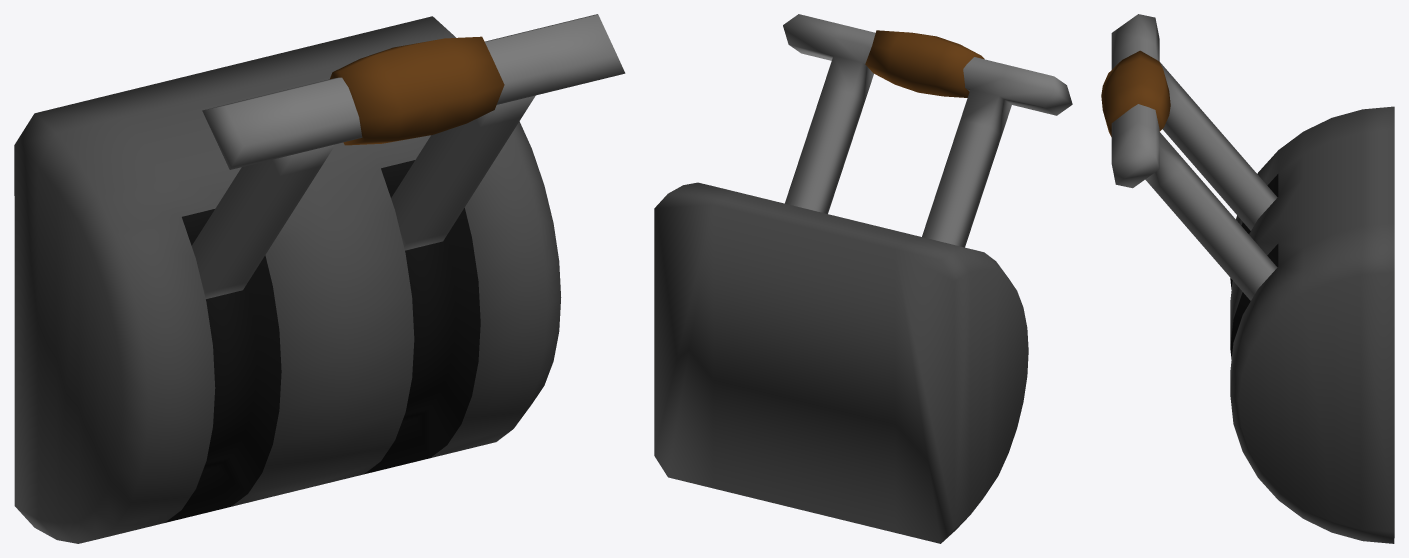
Rendered from alavanca_final.fbx.
3 renders of one model, left to right at view 1: azimuth 30°, elevation 25°; view 2: azimuth 150°, elevation 25°; view 3: azimuth 270°, elevation 25°, orthographic. The views are drawn at different scales.
Parts seen in each view (by area): view 1: Alavanca_Base, Alavanca; view 2: Alavanca_Base, Alavanca; view 3: Alavanca_Base, Alavanca.
Boxes of the visible parts, x1,y1,x2,y2 form: Alavanca_Base: [14, 16, 561, 543]; Alavanca: [191, 14, 625, 298]; Alavanca_Base: [654, 182, 1028, 543]; Alavanca: [783, 14, 1072, 247]; Alavanca_Base: [1230, 106, 1394, 543]; Alavanca: [1101, 14, 1277, 300].
Bounding box in the file's own units: 221 × 272 × 179.
